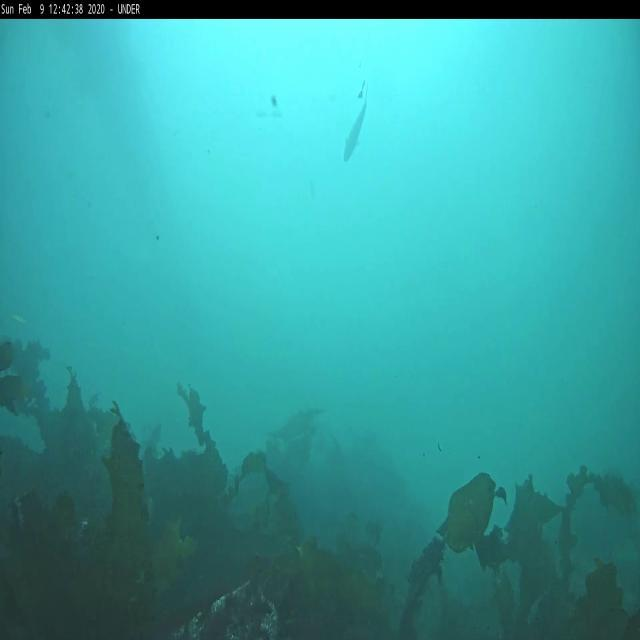fish: (342, 101, 367, 163)
